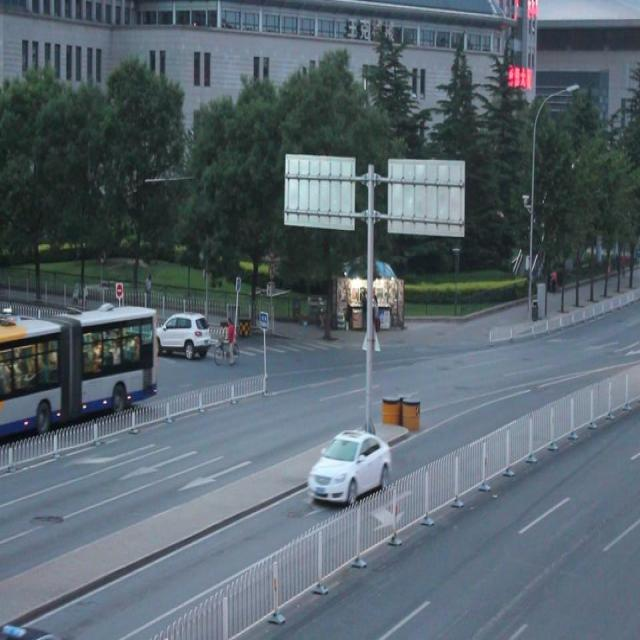car: (308, 426, 390, 504), (157, 307, 211, 358)
van: (1, 304, 160, 432)
